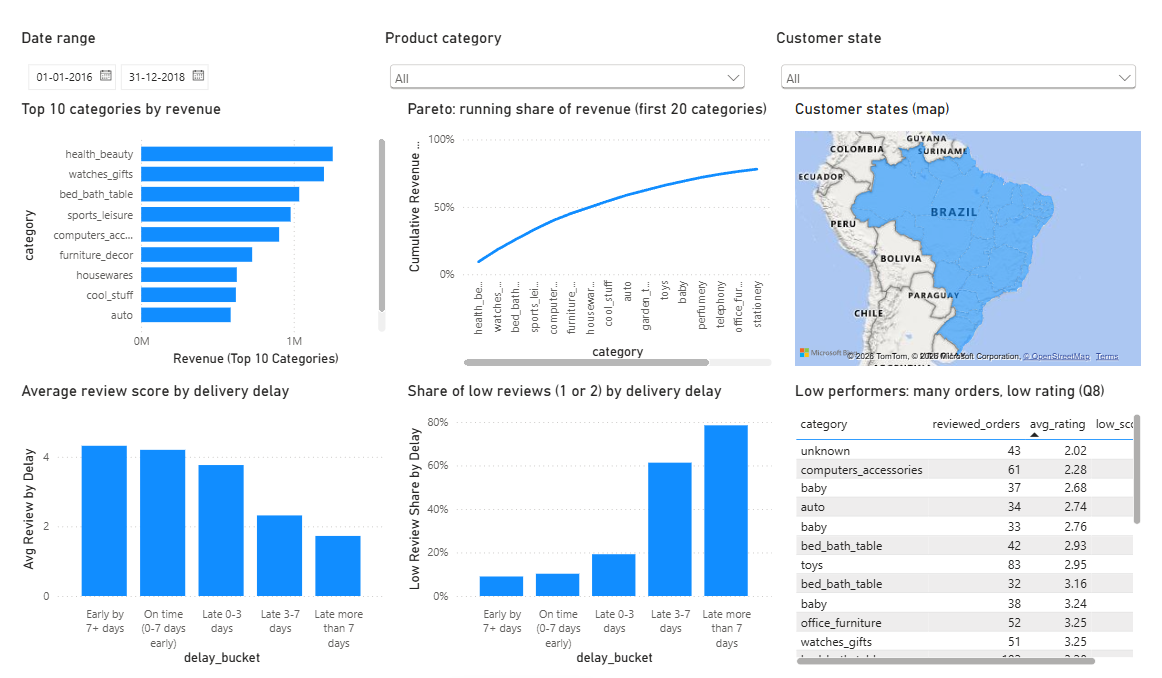

The dashboard page shown, as its layout file describes it:
{"tool":"powerbi","page":{"name":"Products & Delivery","canvas":[1280,720],"ordinal":2},"visuals":[{"type":"clusteredBarChart","title":"Top 10 categories by revenue","fields":{"Category":["dim_product.category"],"Y":["fact_order_items.Revenue (Top 10 Categories)"]},"box":[20,84,410,298],"z":10},{"type":"lineChart","title":"Pareto: running share of revenue (first 20 categories)","fields":{"Category":["dim_product.category"],"Y":["fact_order_items.Cumulative Revenue % (Top 20)"]},"box":[445,84,410,298],"z":11},{"type":"filledMap","title":"Customer states (map)","fields":{"Category":["dim_state.state_name"],"Y":["fact_order_items.Total Revenue"]},"box":[870,84,390,298],"z":12},{"type":"clusteredColumnChart","title":"Average review score by delivery delay","fields":{"Category":["fact_orders.delay_bucket"],"Y":["fact_orders.Avg Review by Delay"]},"box":[20,394,410,316],"z":13},{"type":"clusteredColumnChart","title":"Share of low reviews (1 or 2) by delivery delay","fields":{"Category":["fact_orders.delay_bucket"],"Y":["fact_orders.Low Review Share by Delay"]},"box":[445,394,410,316],"z":14},{"type":"tableEx","title":"Low performers: many orders, low rating (Q8)","fields":{"Values":["dim_product.category","low_performers.reviewed_orders","low_performers.avg_rating","low_performers.low_score_pct"]},"box":[870,394,390,316],"z":15},{"type":"slicer","title":"Date range","fields":{"Values":["dim_date.date"]},"box":[20,6,380,72],"z":100},{"type":"slicer","title":"Product category","fields":{"Values":["dim_product.category"]},"box":[420,6,410,72],"z":101},{"type":"slicer","title":"Customer state","fields":{"Values":["dim_state.state_name"]},"box":[850,6,410,72],"z":102}]}

Visuals, with their boxes on the page's 1280x720 design canvas (x1, y1, x2, y2). These are canvas units, not pixel positions in the 1162x678 screenshot, which may show the page scaled, cropped or inside an application window:
"Top 10 categories by revenue" clusteredBarChart: x1=20 y1=84 x2=430 y2=382
"Pareto: running share of revenue (first 20 categories)" lineChart: x1=445 y1=84 x2=855 y2=382
"Customer states (map)" filledMap: x1=870 y1=84 x2=1260 y2=382
"Average review score by delivery delay" clusteredColumnChart: x1=20 y1=394 x2=430 y2=710
"Share of low reviews (1 or 2) by delivery delay" clusteredColumnChart: x1=445 y1=394 x2=855 y2=710
"Low performers: many orders, low rating (Q8)" tableEx: x1=870 y1=394 x2=1260 y2=710
"Date range" slicer: x1=20 y1=6 x2=400 y2=78
"Product category" slicer: x1=420 y1=6 x2=830 y2=78
"Customer state" slicer: x1=850 y1=6 x2=1260 y2=78
